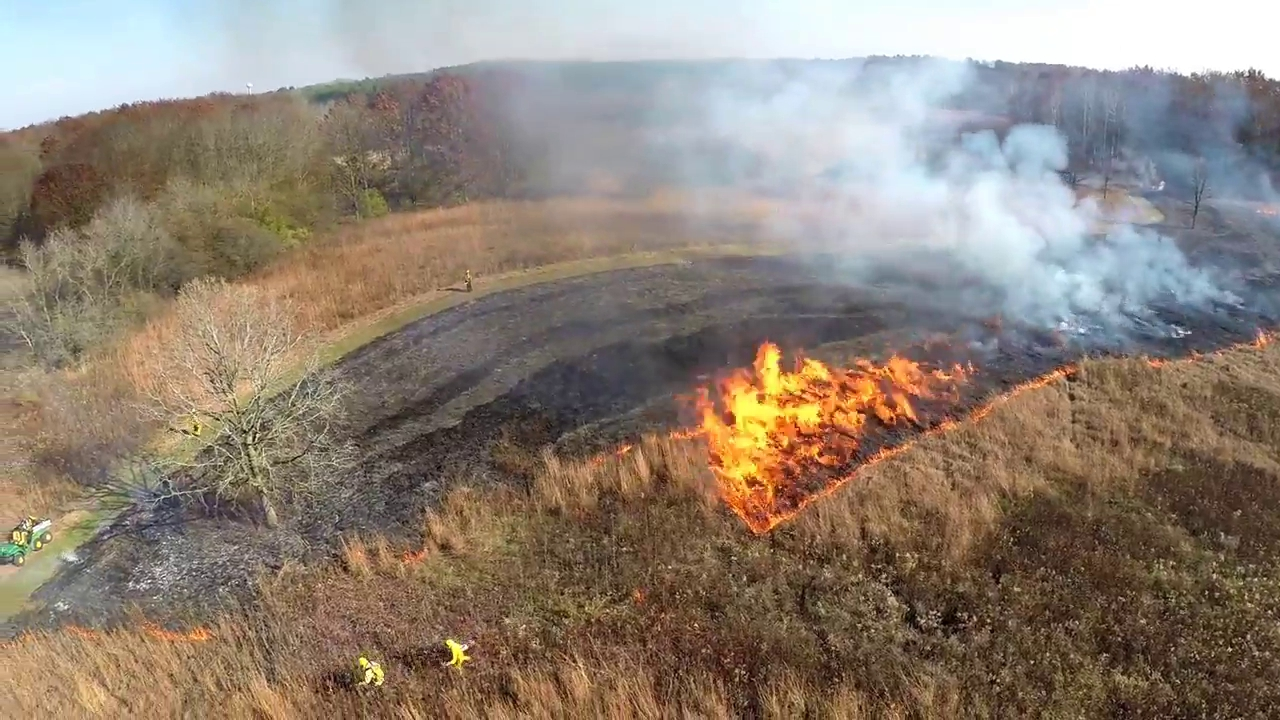forest_fire: (668, 343, 1079, 534), (136, 622, 215, 642)
